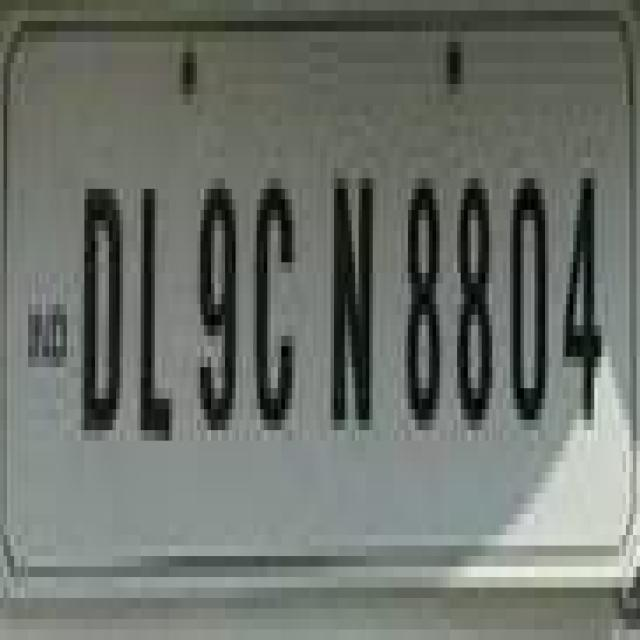license_plate: (7, 21, 605, 588)
